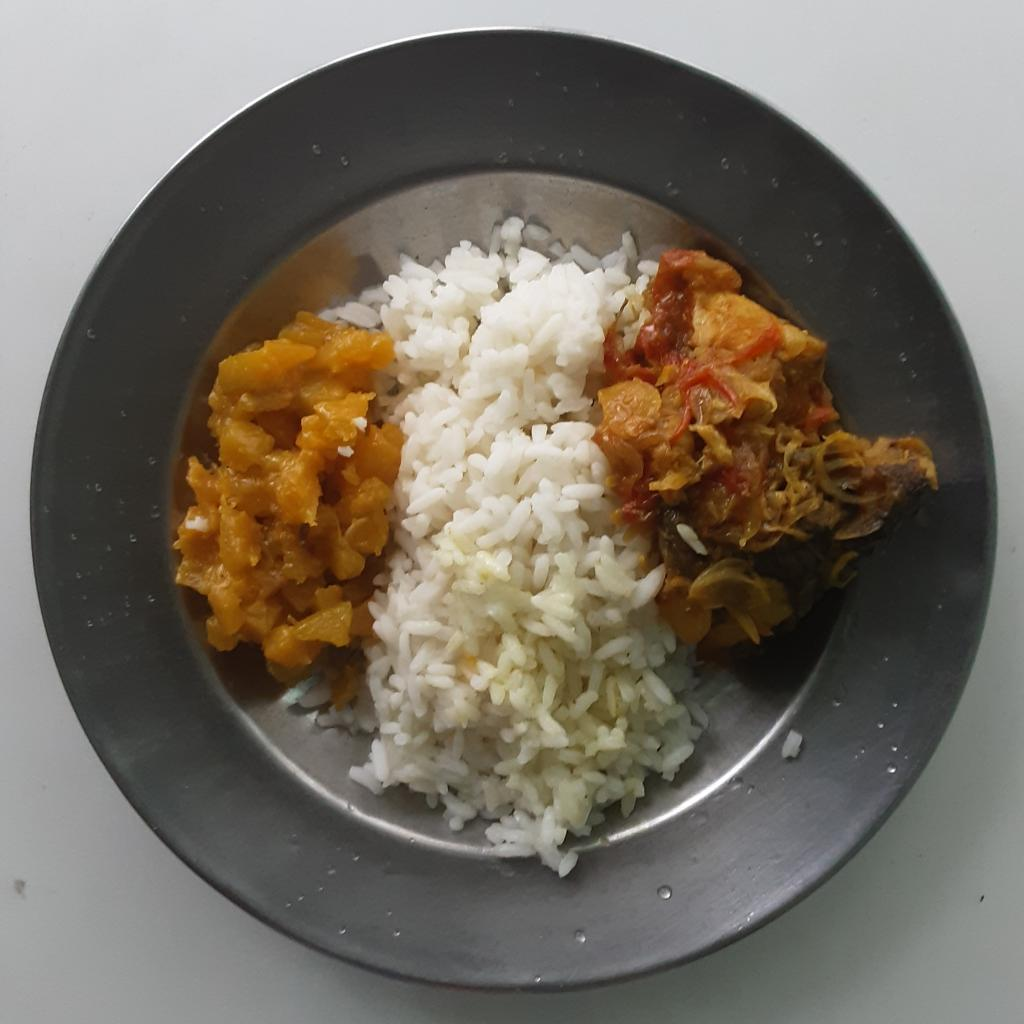fish: (589, 247, 943, 656)
kumra-vaji: (169, 313, 404, 686)
rice: (284, 209, 707, 883)
